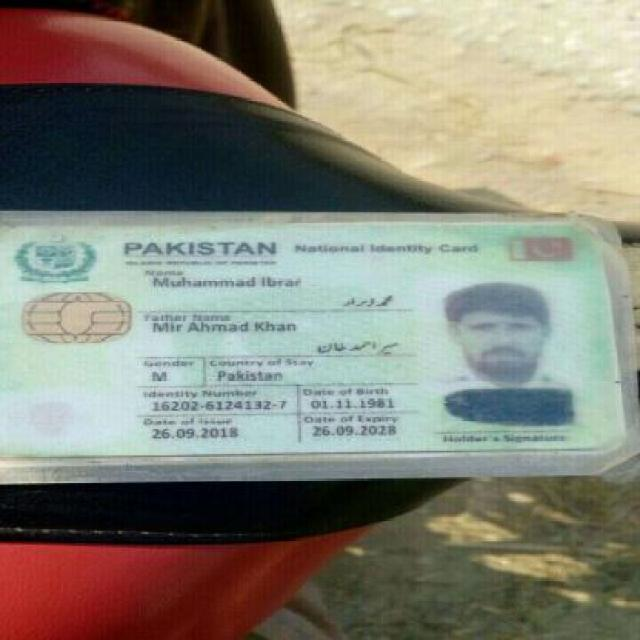Front: (3, 216, 629, 467)
